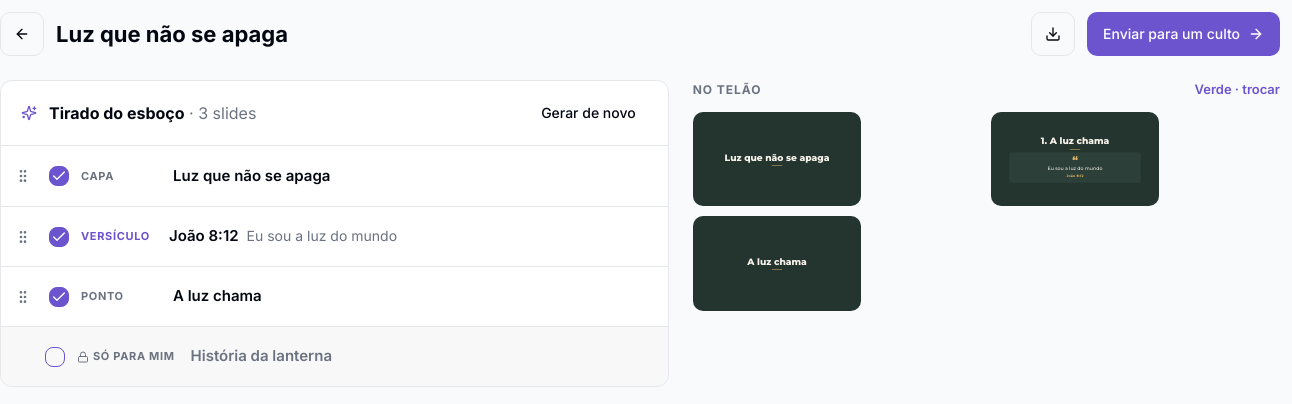
SermonSlidesPage › trocar o visual salva o estilo
Step 1. Click the button "Verde · trocar" → (1237, 90), box x1=1194 y1=80 x2=1280 y2=100
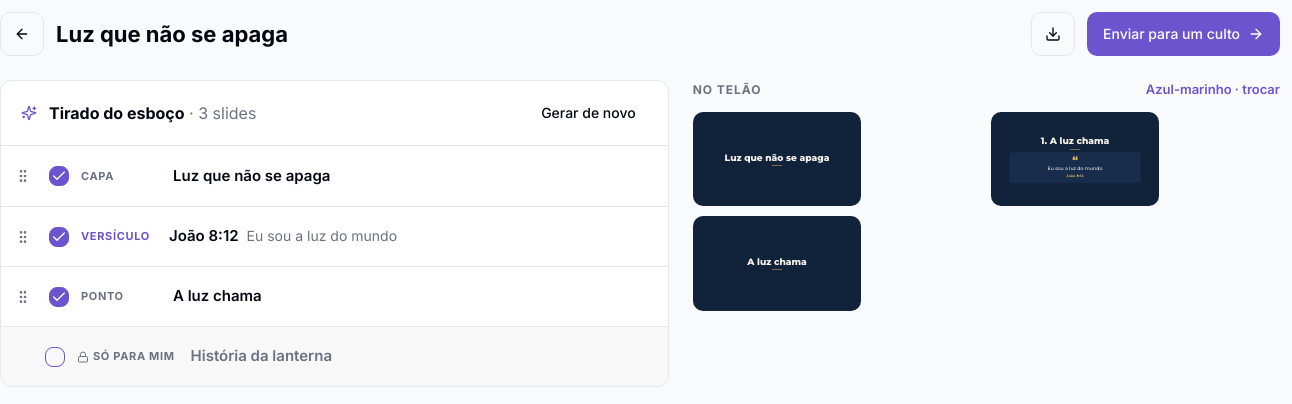
expect the button "Azul-marinho · trocar" is shown: met, box x1=1146 y1=80 x2=1280 y2=100
